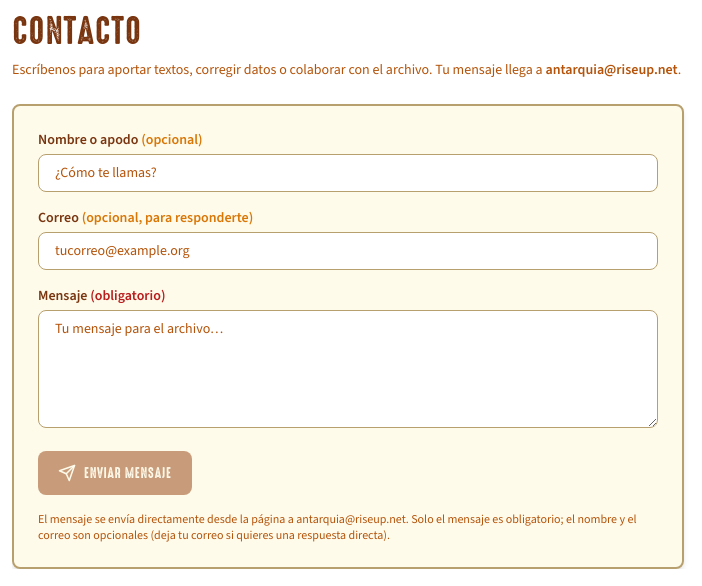
Test: ContactView › muestra el mensaje de error y el correo directo si falla el envío
In the text box labelled "Mensaje (obligatorio)": [348, 369] box x1=38 y1=310 x2=658 y2=428, type "Hola."
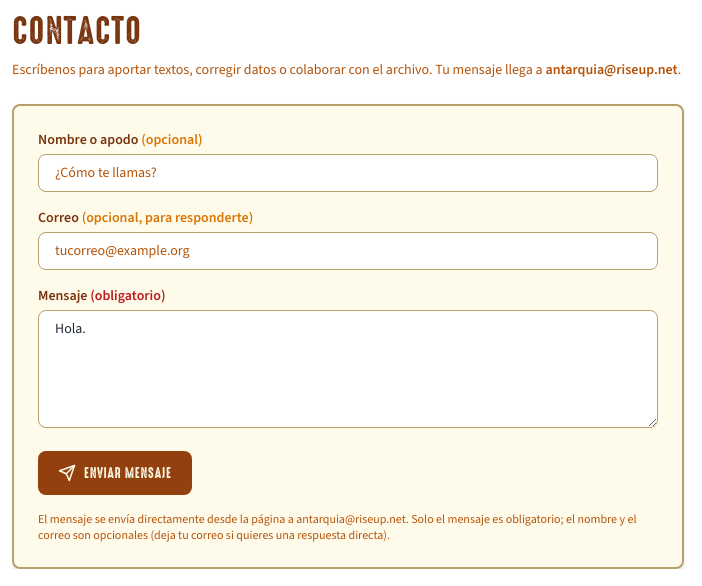
Click the button "Enviar mensaje": [115, 473] box x1=38 y1=451 x2=192 y2=495
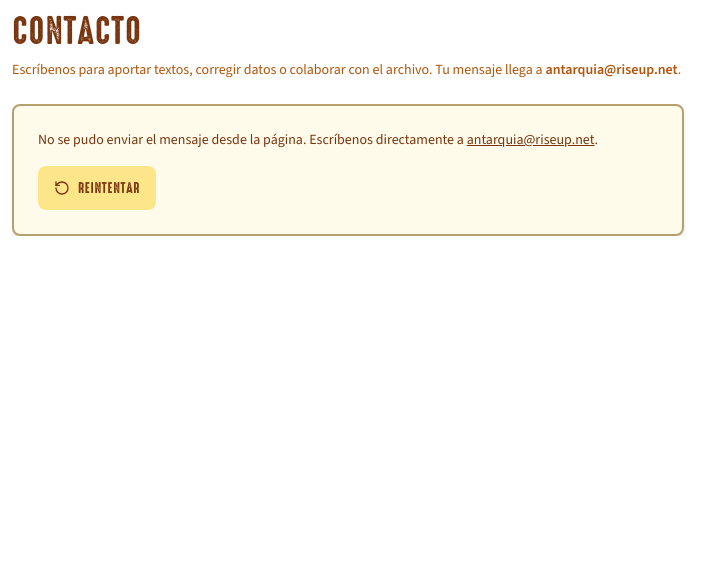
Expected: the text "No se pudo enviar" is shown, x1=38 y1=130 x2=467 y2=149
Expected: the text "Reintentar" is shown, x1=38 y1=166 x2=156 y2=210
